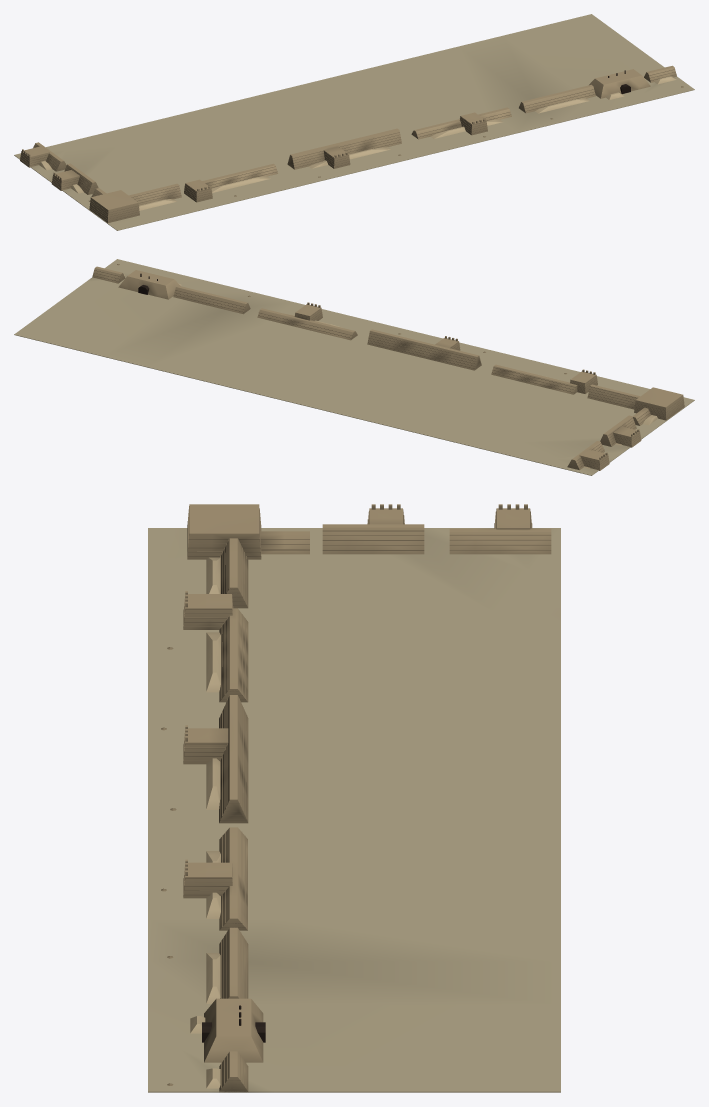
The model's file is shazhou-gate-ruin.glb.
The picture shows the model from 3 angles, top to bottom: view 1: azimuth 30°, elevation 25°; view 2: azimuth 150°, elevation 25°; view 3: azimuth 270°, elevation 25°; orthographic projection. The views are drawn at different scales.
Visible parts, largest first — view 1: p0_gates; view 2: p0_gates; view 3: p0_gates.
Part boxes in pixels (x1=…): p0_gates: x1=14, y1=14, x2=694, y2=230; p0_gates: x1=14, y1=259, x2=694, y2=475; p0_gates: x1=148, y1=504, x2=560, y2=1092.
Bounding box in the file's own units: 421 × 9.7 × 130.
